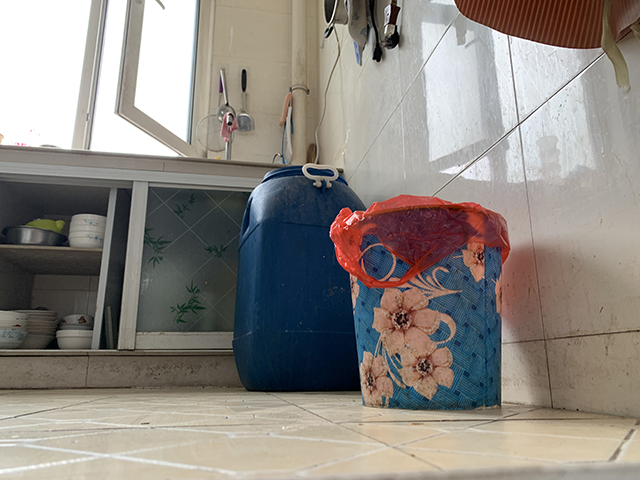cabinet: (1, 141, 287, 389)
trashcan: (327, 192, 512, 410)
